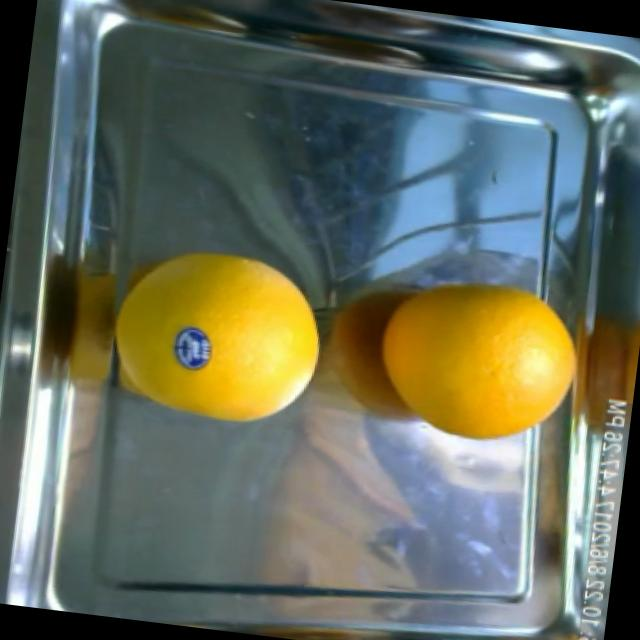Fruit: (372, 256, 596, 466)
